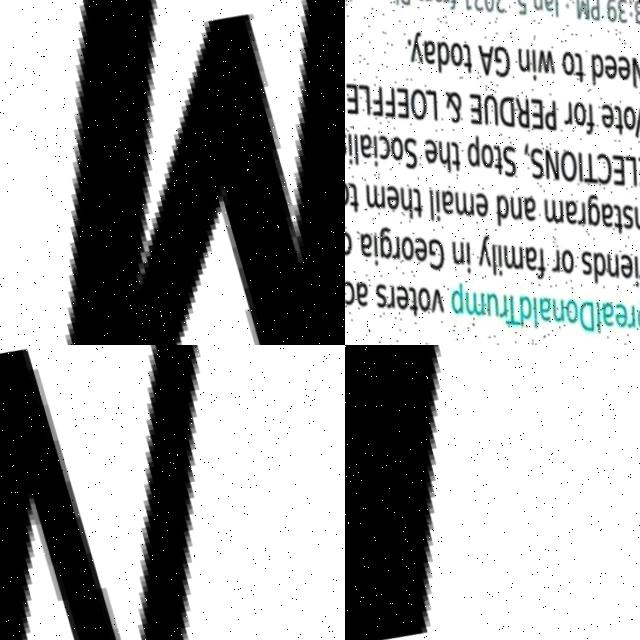0: (477, 0, 500, 7)
2: (487, 0, 510, 9), (466, 0, 489, 7)
3: (611, 0, 632, 16), (628, 0, 640, 15)
5: (509, 0, 532, 8)
9: (599, 0, 622, 15)
I: (345, 345, 434, 640)
M: (0, 0, 345, 345)
N: (0, 345, 345, 640)
